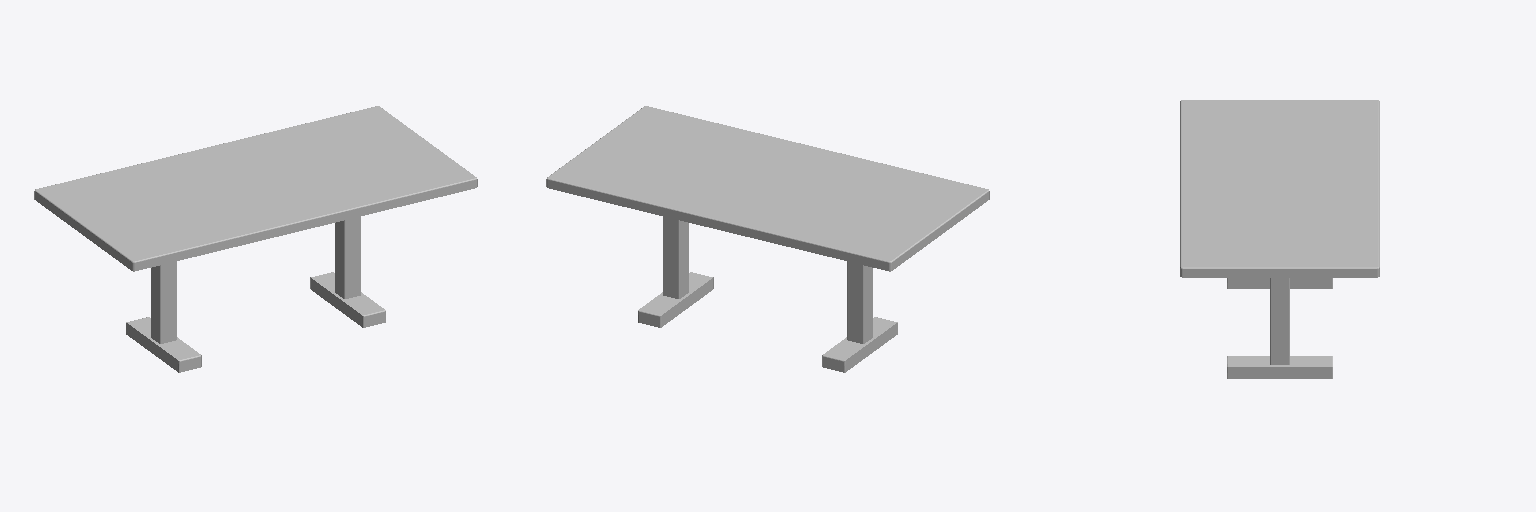
Rendered from Table.obj.
3 views of the same model, side by side, from view 1: azimuth 30°, elevation 25°; view 2: azimuth 150°, elevation 25°; view 3: azimuth 270°, elevation 25° (orthographic).
Size of the model in its own units: 150 by 60 by 75.